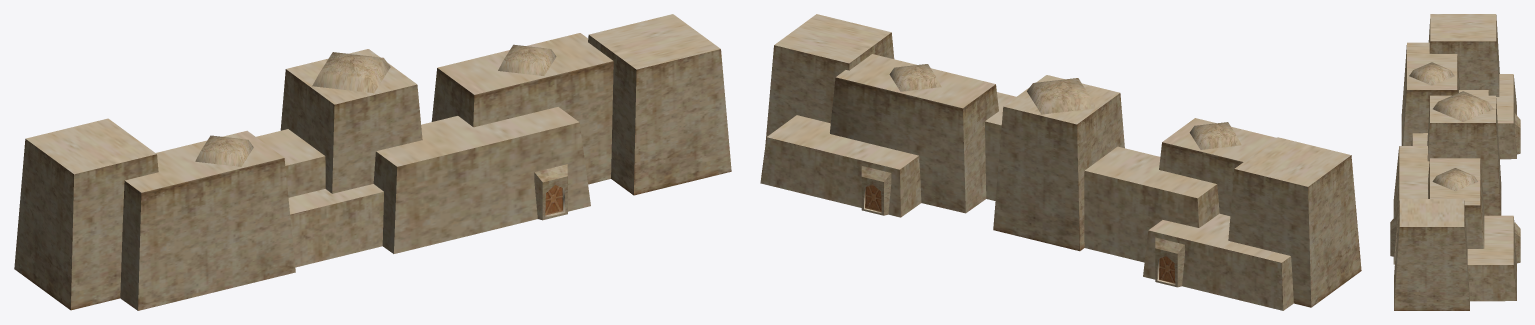
The model's file is thm_tato_block_bldg_64x16_s02_l3.fbx.
The picture shows the model from 3 angles, left to right: view 1: azimuth 30°, elevation 25°; view 2: azimuth 150°, elevation 25°; view 3: azimuth 270°, elevation 25°; orthographic projection. The views are drawn at different scales.
Visible parts, largest first — view 1: mesh_node; view 2: mesh_node; view 3: mesh_node.
Part boxes in pixels (left/top/right/bottom): mesh_node: left=14, top=14, right=731, bottom=310; mesh_node: left=760, top=14, right=1361, bottom=310; mesh_node: left=1390, top=14, right=1520, bottom=310.
Bounding box in the file's own units: 63.77 × 15.05 × 16.67.
